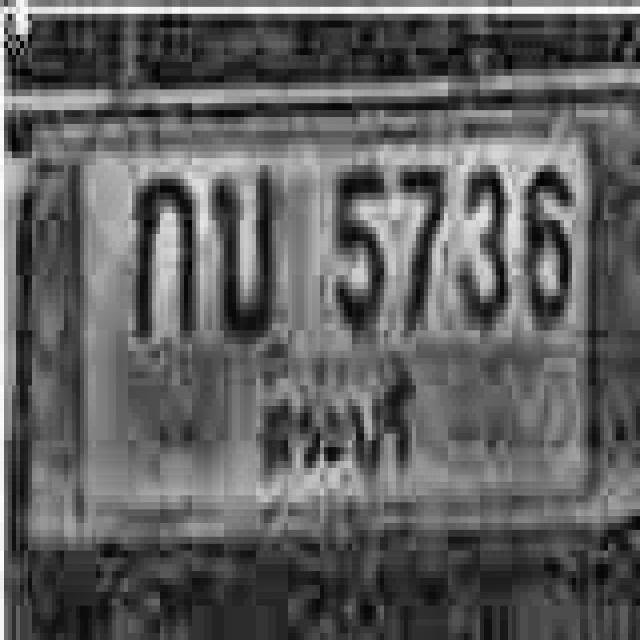license-plate: (12, 90, 640, 544)
